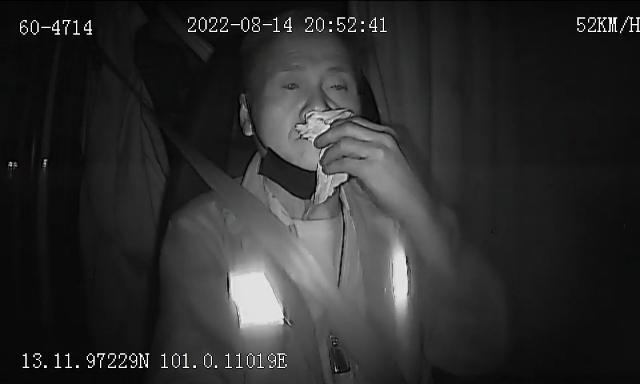SafeDriving: (275, 72, 307, 96)
Seatbelt: (164, 126, 378, 384)
